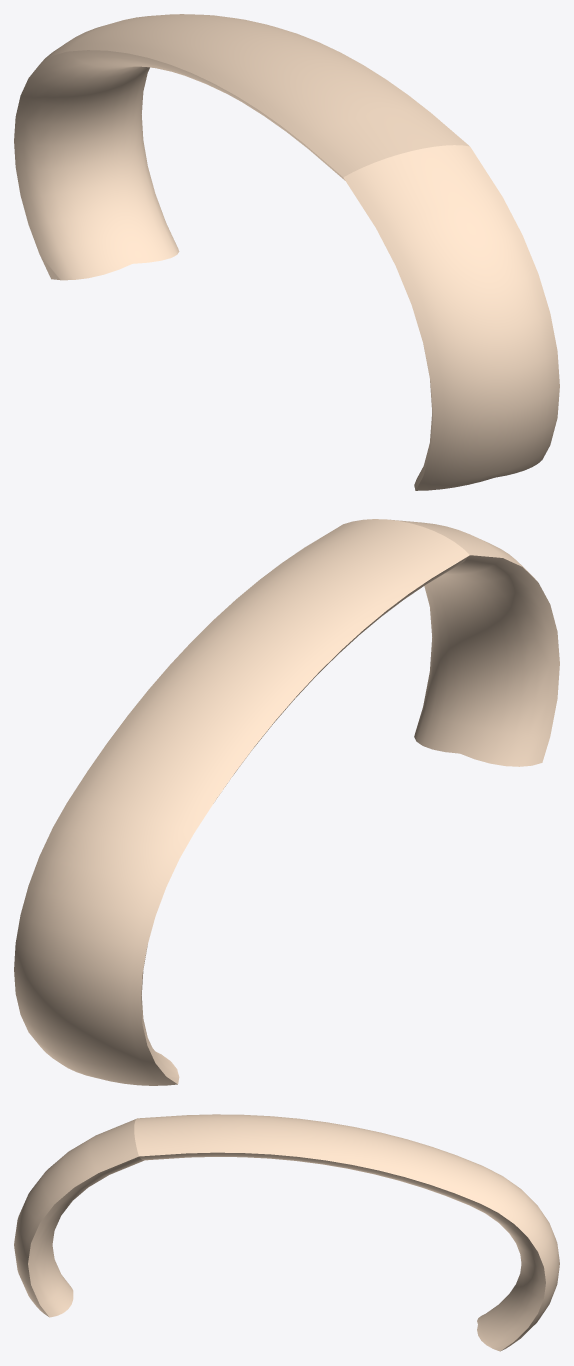
3 renders of one model, top to bottom at view 1: azimuth 30°, elevation 25°; view 2: azimuth 150°, elevation 25°; view 3: azimuth 270°, elevation 25°, orthographic. The views are drawn at different scales.
Bounding box in the file's own units: 0.0731 × 0.1848 × 0.4408.
